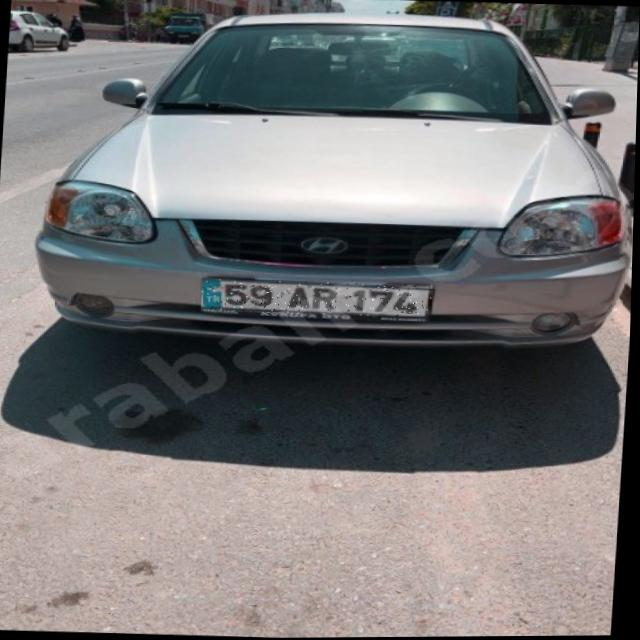license_plate: (202, 277, 434, 319)
